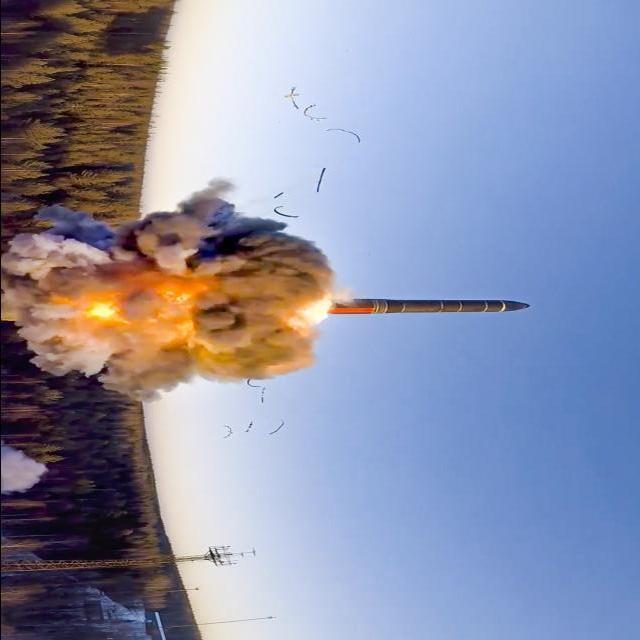Missile: (305, 296, 541, 316)
